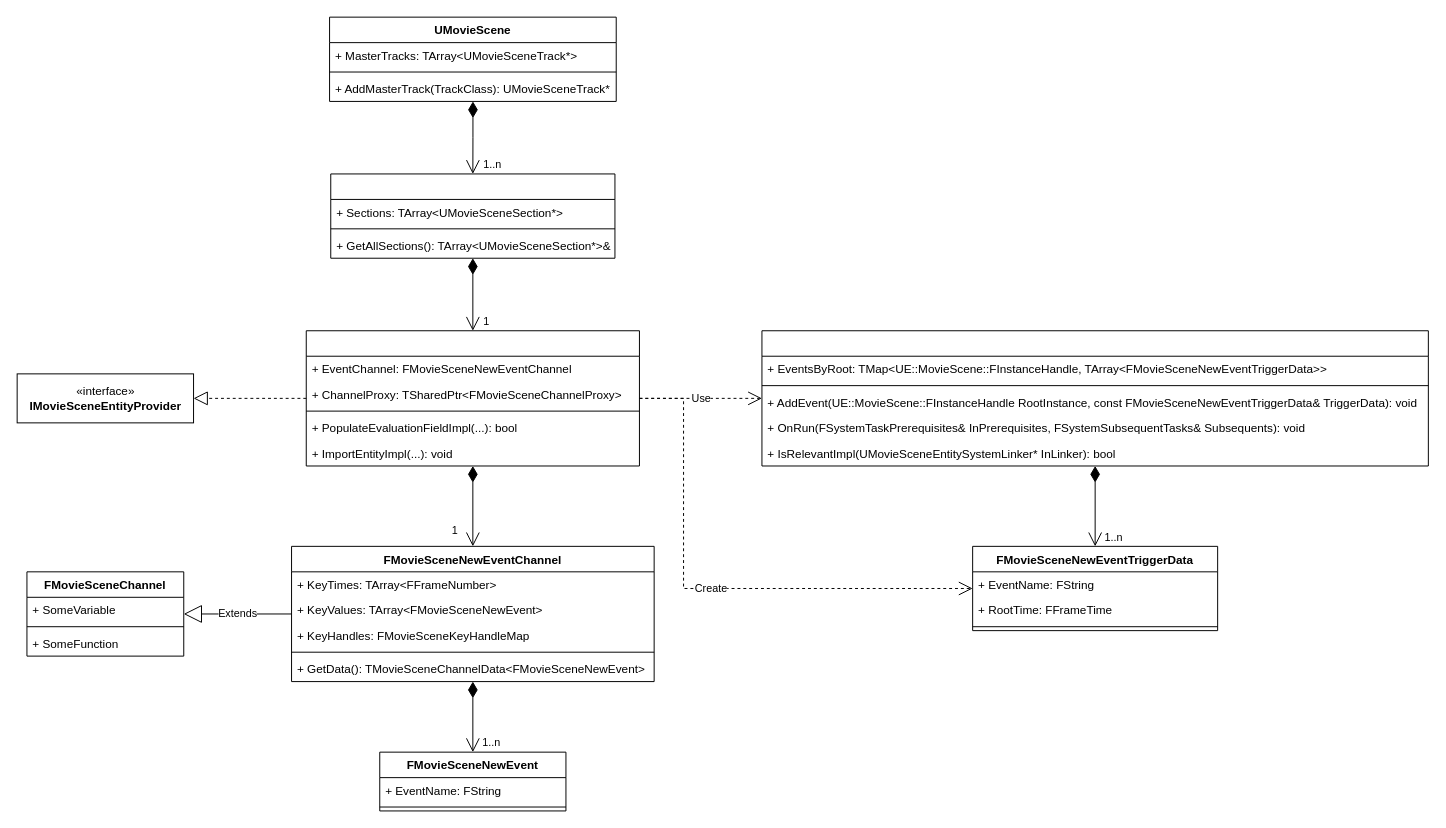
Image size: 1446x828. Some labels were removed from this diagram. The box of each missing label's shape, as (x1, y1, x2, y2) in pixels:
UMovieSceneNewEventSystem: (761, 330, 1428, 466)
UMovieSceneNewEventTrack: (330, 173, 615, 258)
UMovieSceneNewEventTriggerSection: (305, 330, 639, 466)
